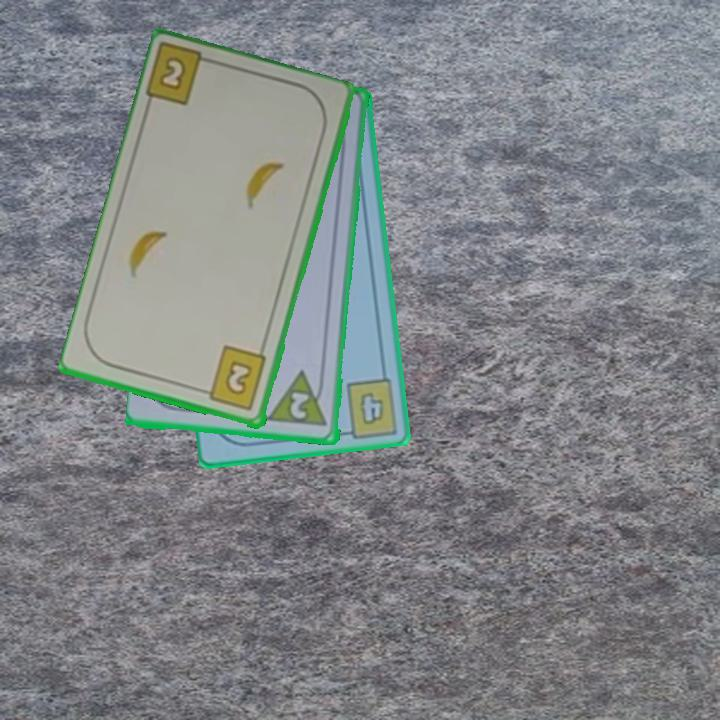2b: (197, 343, 270, 414), (144, 43, 221, 109)
2p: (287, 389, 312, 423)
4b: (337, 373, 401, 439)
